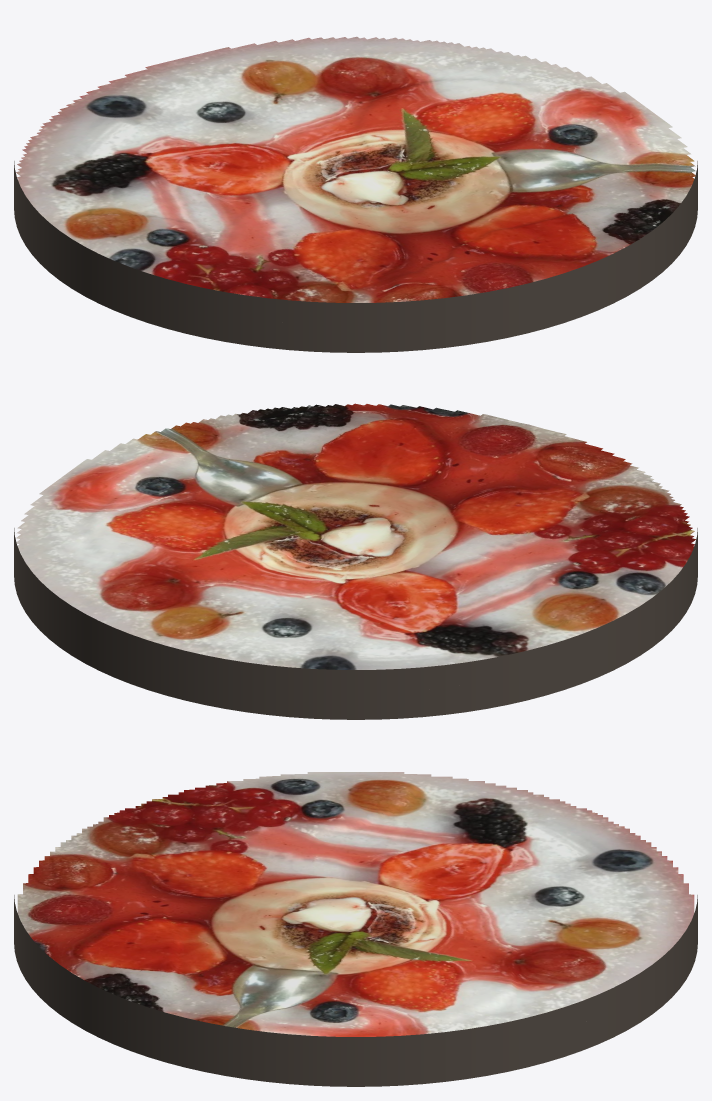
The model's file is plato.glb.
3 views of the same model, one above another, from view 1: azimuth 30°, elevation 25°; view 2: azimuth 150°, elevation 25°; view 3: azimuth 270°, elevation 25° (orthographic).
Bounding box in the file's own units: 0.2985 × 0.024 × 0.2985.
2 materials, 1 textured.
